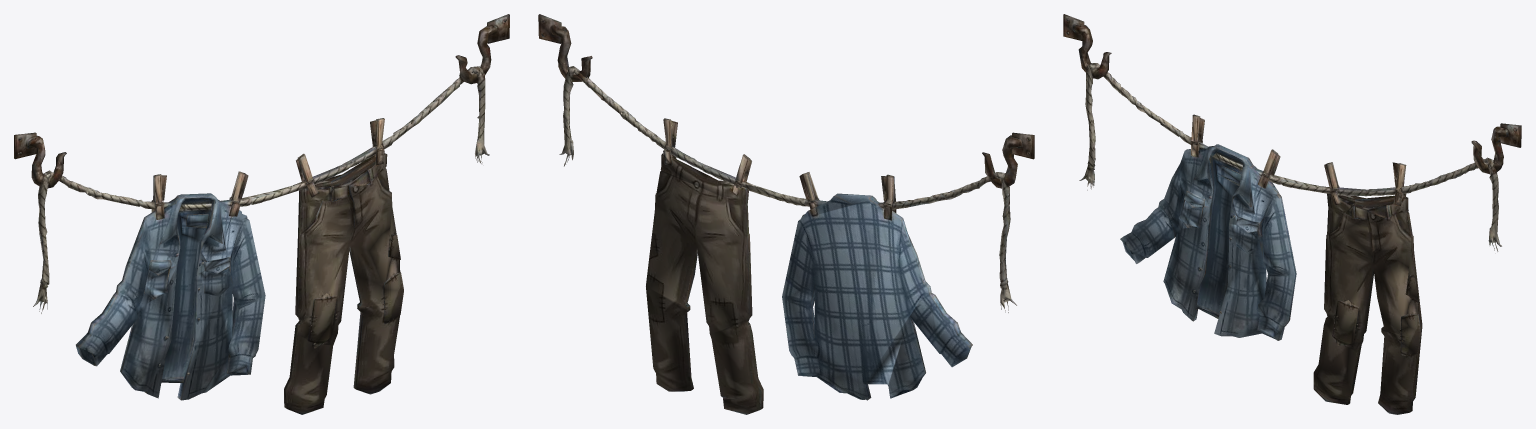
The model's file is washline.glb.
3 renders of one model, left to right at view 1: azimuth 30°, elevation 25°; view 2: azimuth 150°, elevation 25°; view 3: azimuth 330°, elevation 25°, orthographic. The views are drawn at different scales.
Bounding box in the file's own units: 0.9443 × 0.6348 × 0.022.
Materials: 1 (1 with a texture image).
